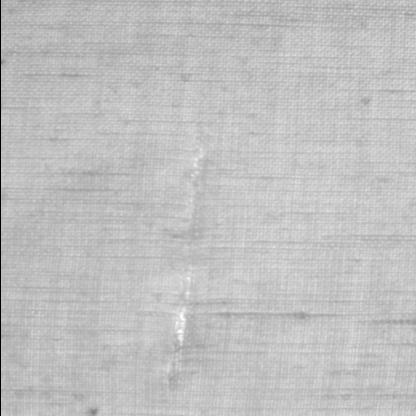thread error: (164, 136, 206, 400)
